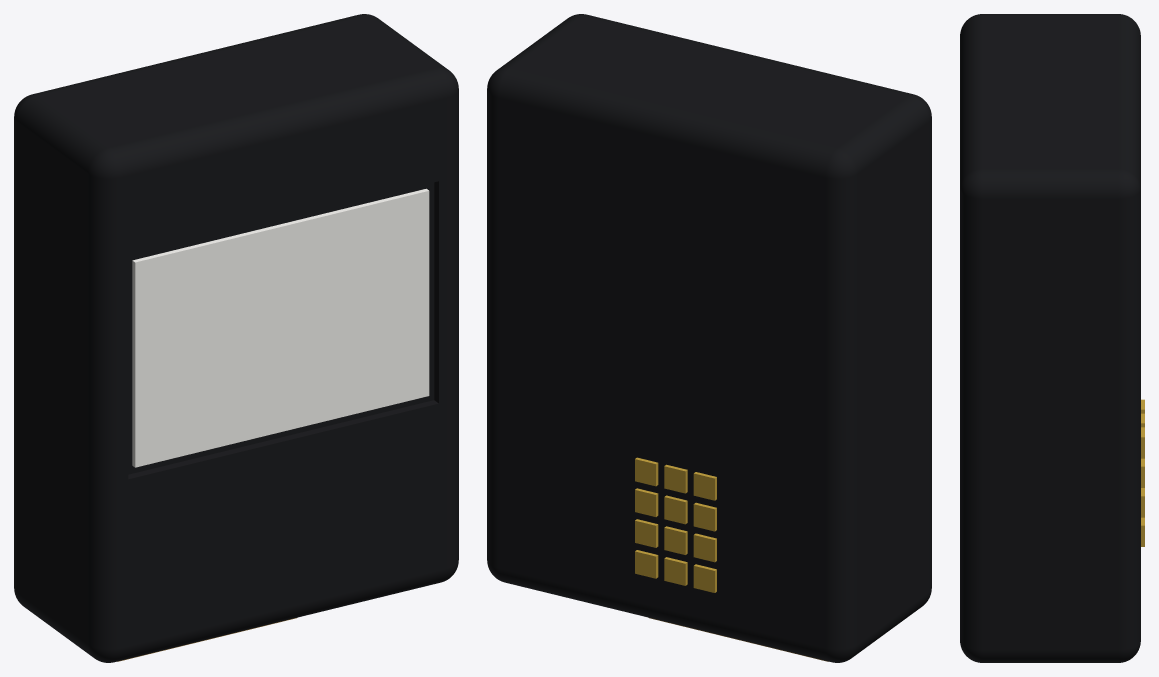
Rendered from cartridge.glb.
3 views of the same model, side by side, from view 1: azimuth 30°, elevation 25°; view 2: azimuth 150°, elevation 25°; view 3: azimuth 270°, elevation 25° (orthographic). The views are drawn at different scales.
Parts seen in each view (by area): view 1: body, label; view 2: body; view 3: body.
Part boxes in pixels (box(x1,y1,x2,y2)): body: box(14, 14, 458, 662); label: box(132, 188, 429, 467); body: box(487, 14, 931, 662); body: box(960, 14, 1140, 662).
Bounding box in the file's own units: 0.045 × 0.0612 × 0.0204.
